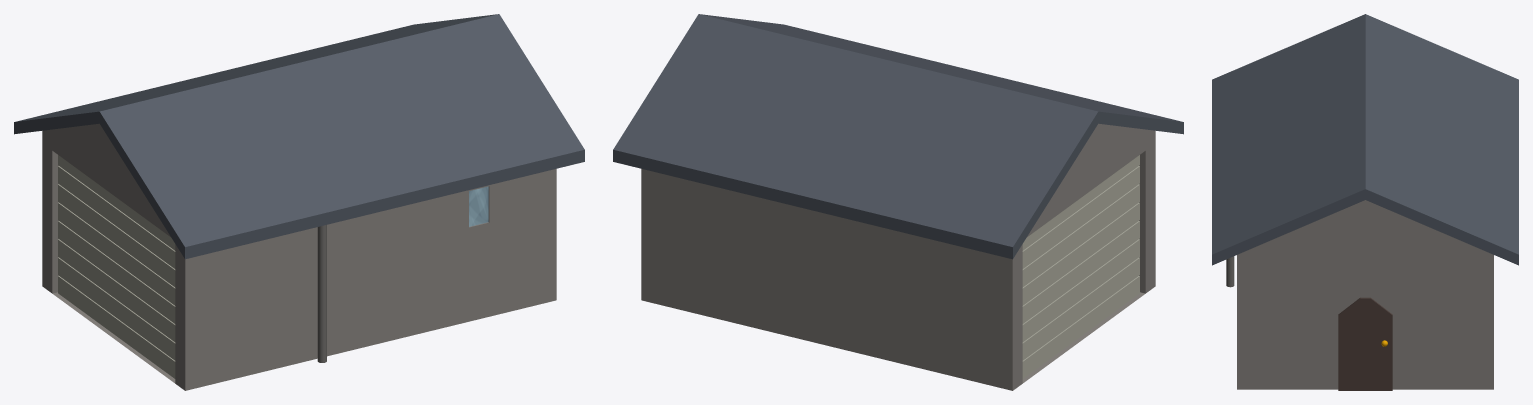
The model's file is TPCS_Garage_001_V1.fbx.
The picture shows the model from 3 angles, left to right: view 1: azimuth 30°, elevation 25°; view 2: azimuth 150°, elevation 25°; view 3: azimuth 270°, elevation 25°; orthographic projection. The views are drawn at different scales.
Parts seen in each view (by area): view 1: garage1; view 2: garage1; view 3: garage1.
Boxes of the visible parts, x1=… form: garage1: x1=14, y1=14, x2=584, y2=390; garage1: x1=613, y1=14, x2=1183, y2=390; garage1: x1=1212, y1=14, x2=1518, y2=390.
Bounding box in the file's own units: 646 × 356 × 478.
